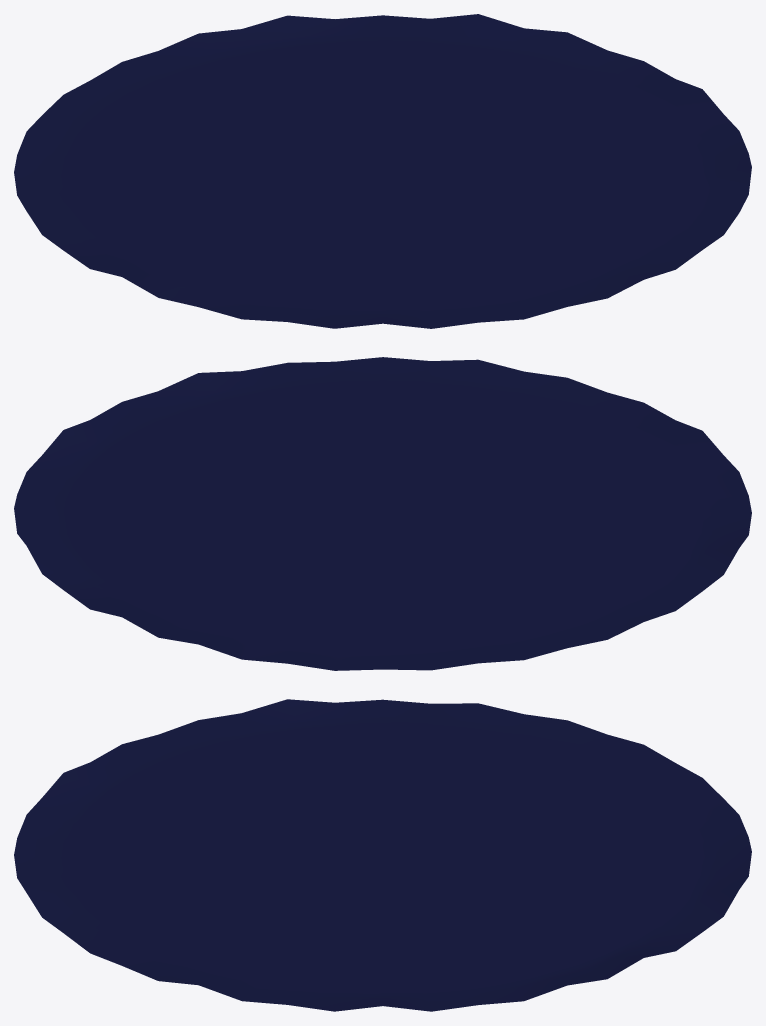
3 renders of one model, top to bottom at view 1: azimuth 30°, elevation 25°; view 2: azimuth 150°, elevation 25°; view 3: azimuth 270°, elevation 25°, orthographic.
Parts seen in each view (by area): view 1: Matt_L; view 2: Matt_L; view 3: Matt_L.
Part boxes in pixels (box(x1,y1,x2,y2)): Matt_L: box(14, 14, 751, 328); Matt_L: box(14, 357, 751, 670); Matt_L: box(14, 699, 751, 1011).
Bounding box in the file's own units: 1379 × 22.31 × 1379.
